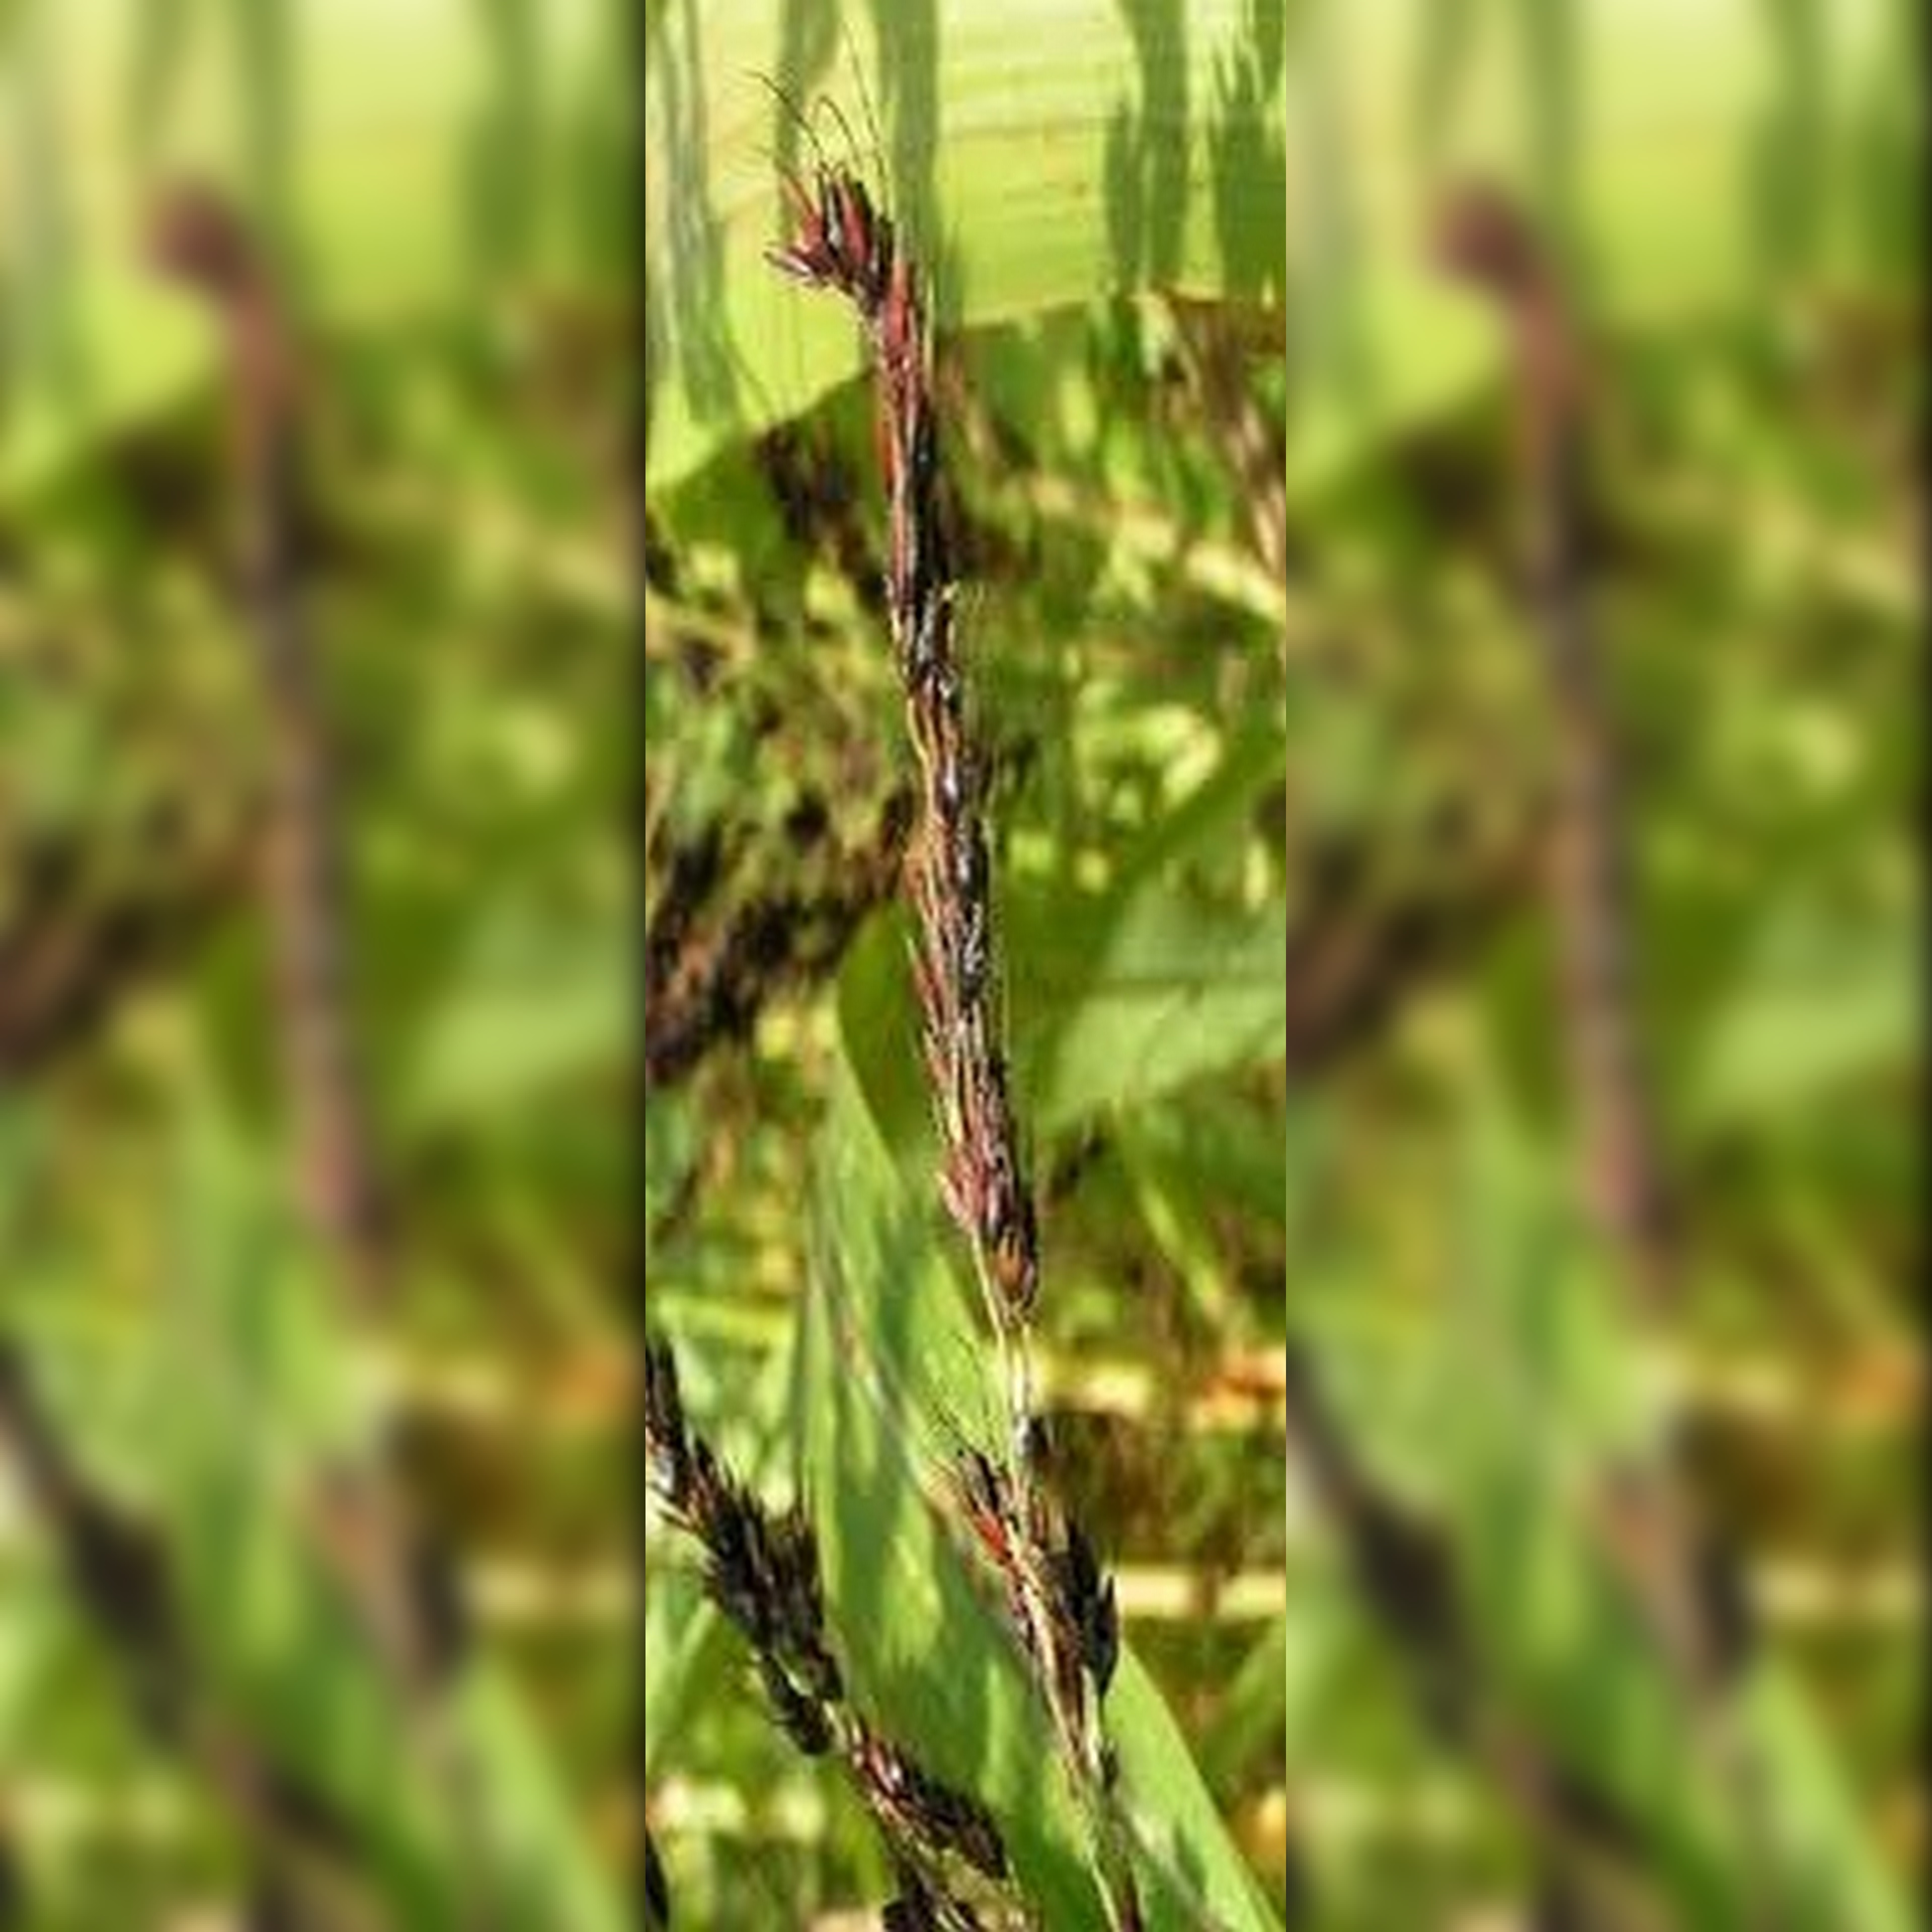Wheat Loose Smut: (775, 156, 1115, 1322)
